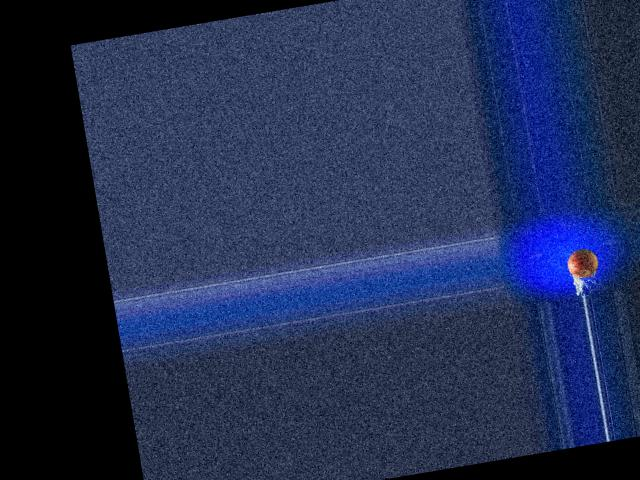tomato: (565, 247, 601, 279)
